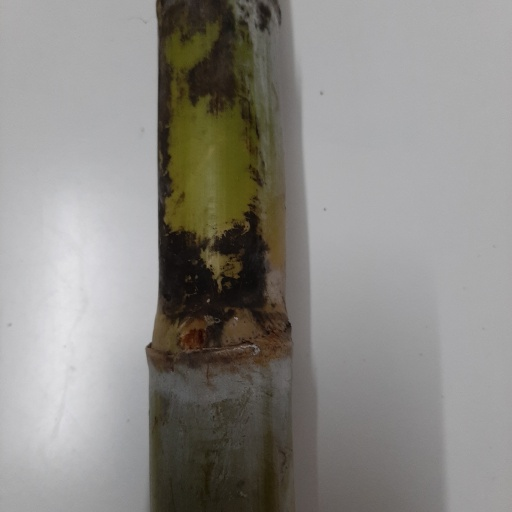Damage_Bud: (175, 316, 209, 354)
